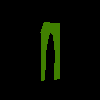jeans: (40, 21, 60, 80)
